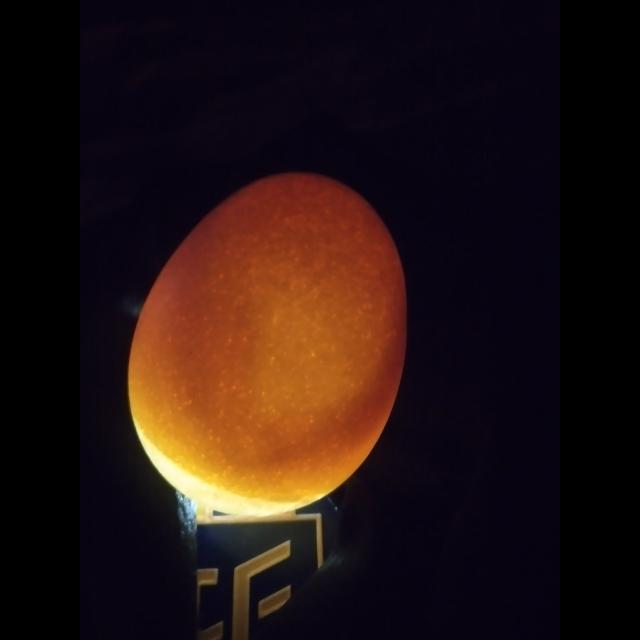Infertile: (122, 169, 418, 515)
